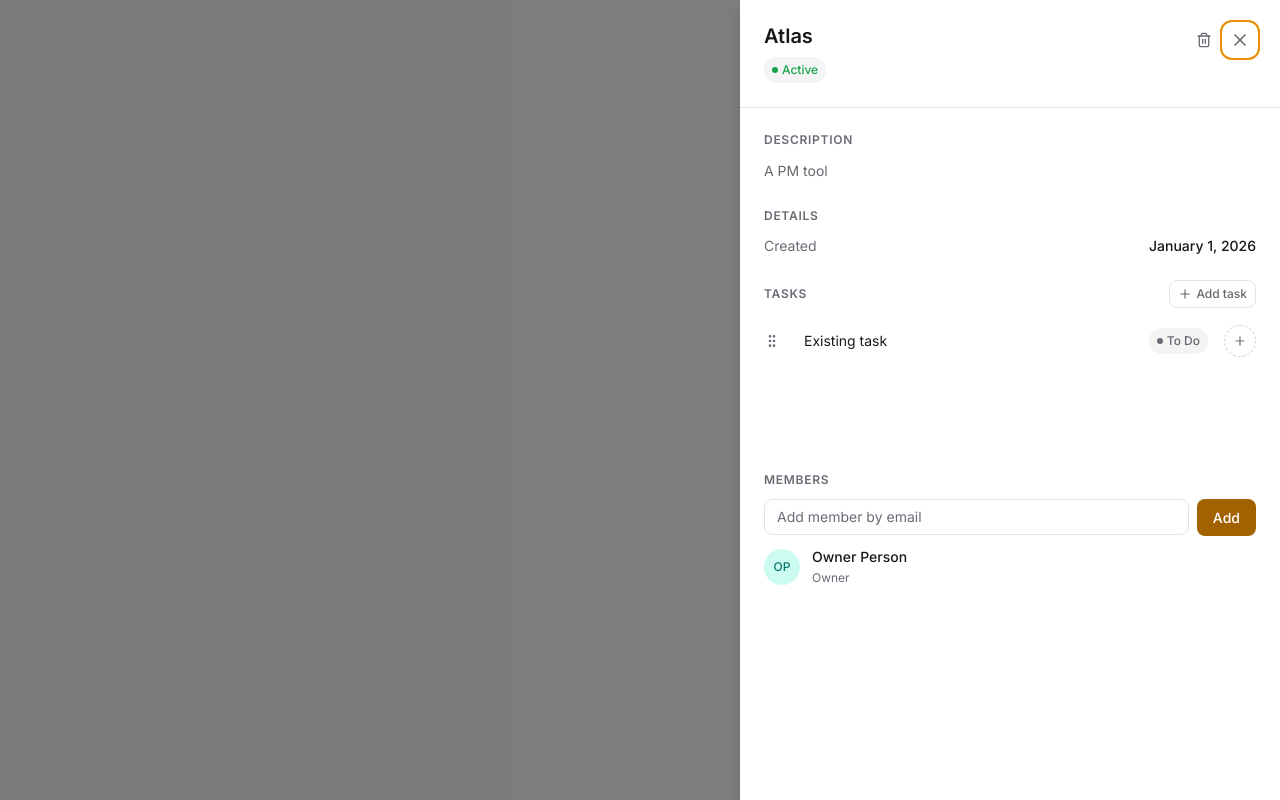
Test case: ProjectSlideOver task modal › should open in edit mode, prefilled, from a task row
Click the button with aria-label "Open Existing task": (846, 340) [796,320,1216,362]
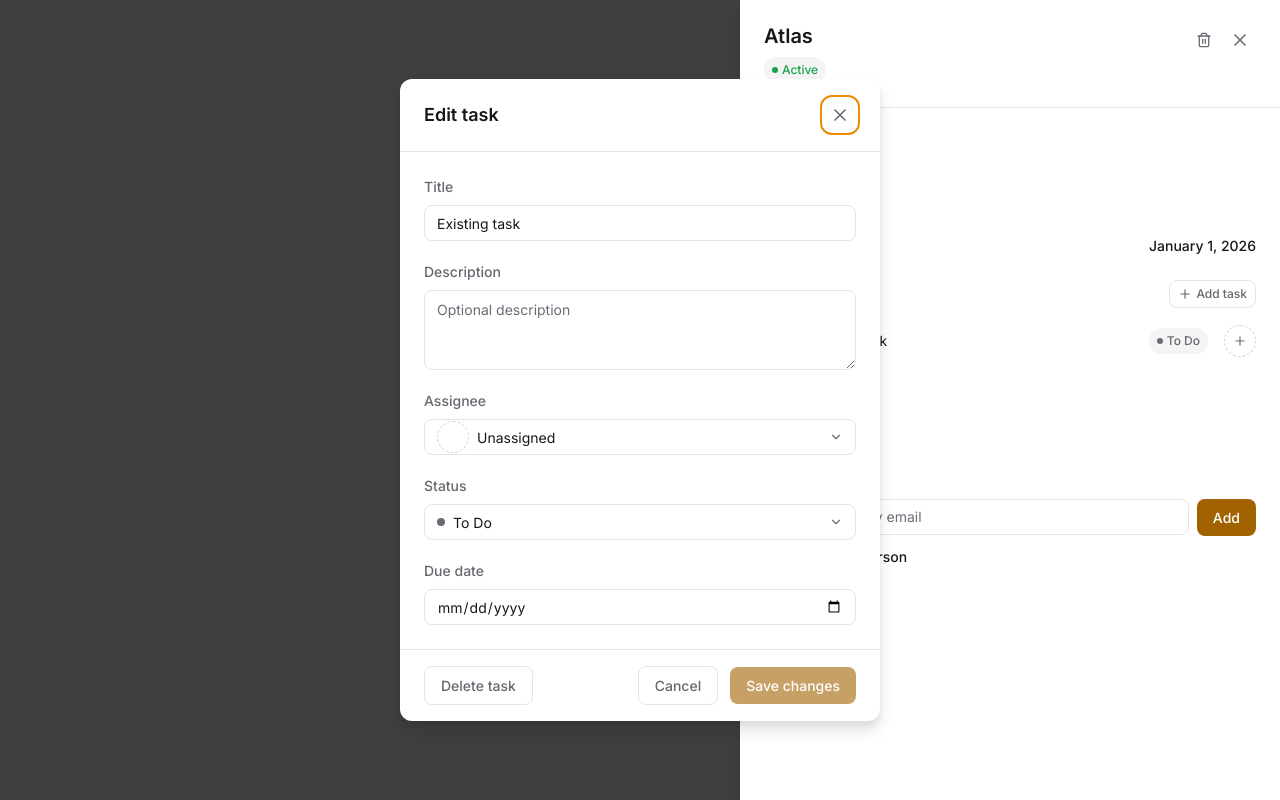
Expected: the dialog "Edit task" is shown, [400,79,880,721]
Expected: the field showing "Existing task" is shown, [424,205,856,241]
